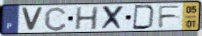C: (43, 6, 68, 32)
D: (132, 4, 157, 31)
F: (157, 4, 183, 29)
H: (73, 6, 99, 31)
V: (20, 7, 45, 32)
X: (99, 5, 126, 31)
